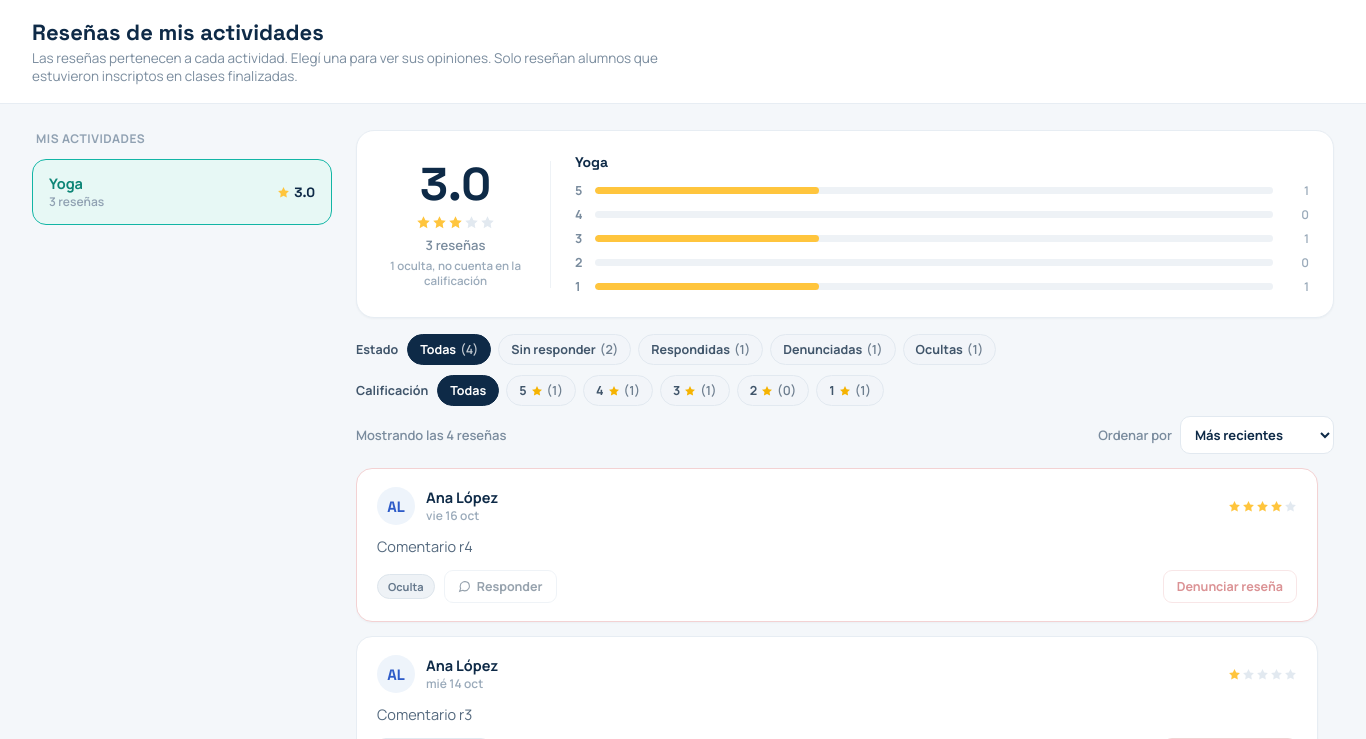
filtros de la lista (2026-10-25) › filtra por estado y por calificación, con la cantidad de cada opción
The width and height of the screenshot is (1366, 739).
Expected: the text "Mostrando las 4 reseñas" is shown, [356,426,506,444]
// "Sin responder" incluye la denunciada: todavía no tiene respuesta. Las ocultas no.
Click the button "Sin responder (2)": (565, 350) [498,334,631,365]
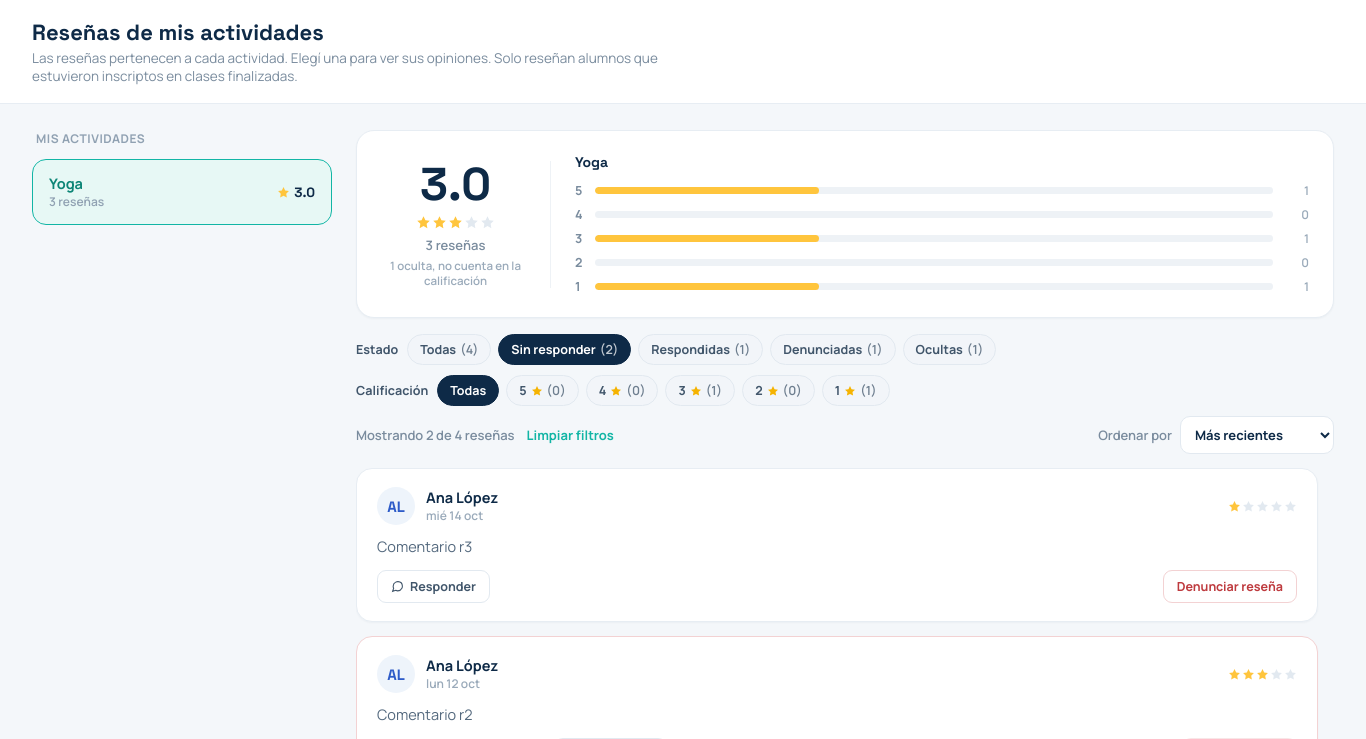
Expected: the text "Mostrando 2 de 4 reseñas" is shown, [356,426,515,444]
Click the button "Denunciadas (1)": (833, 350) [770,334,896,365]
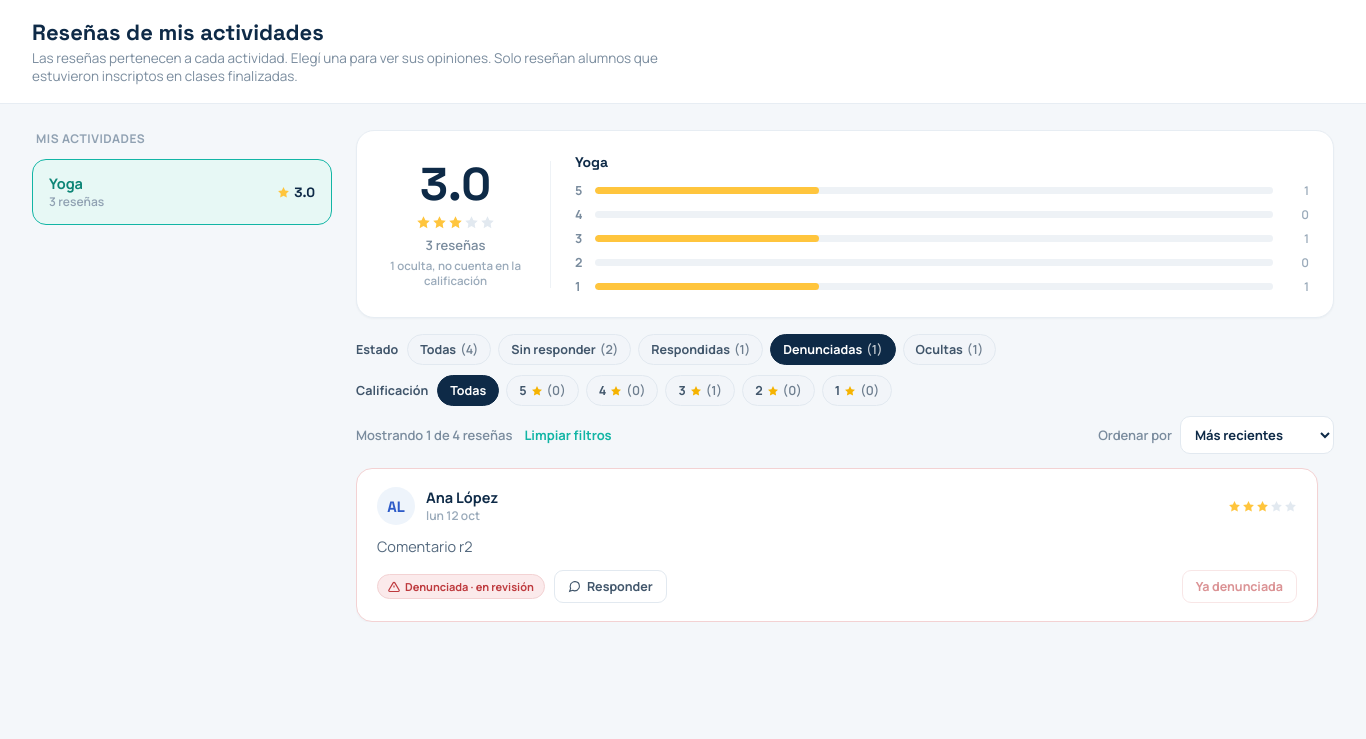
Click the button "Limpiar filtros": (568, 435) [524,426,612,444]
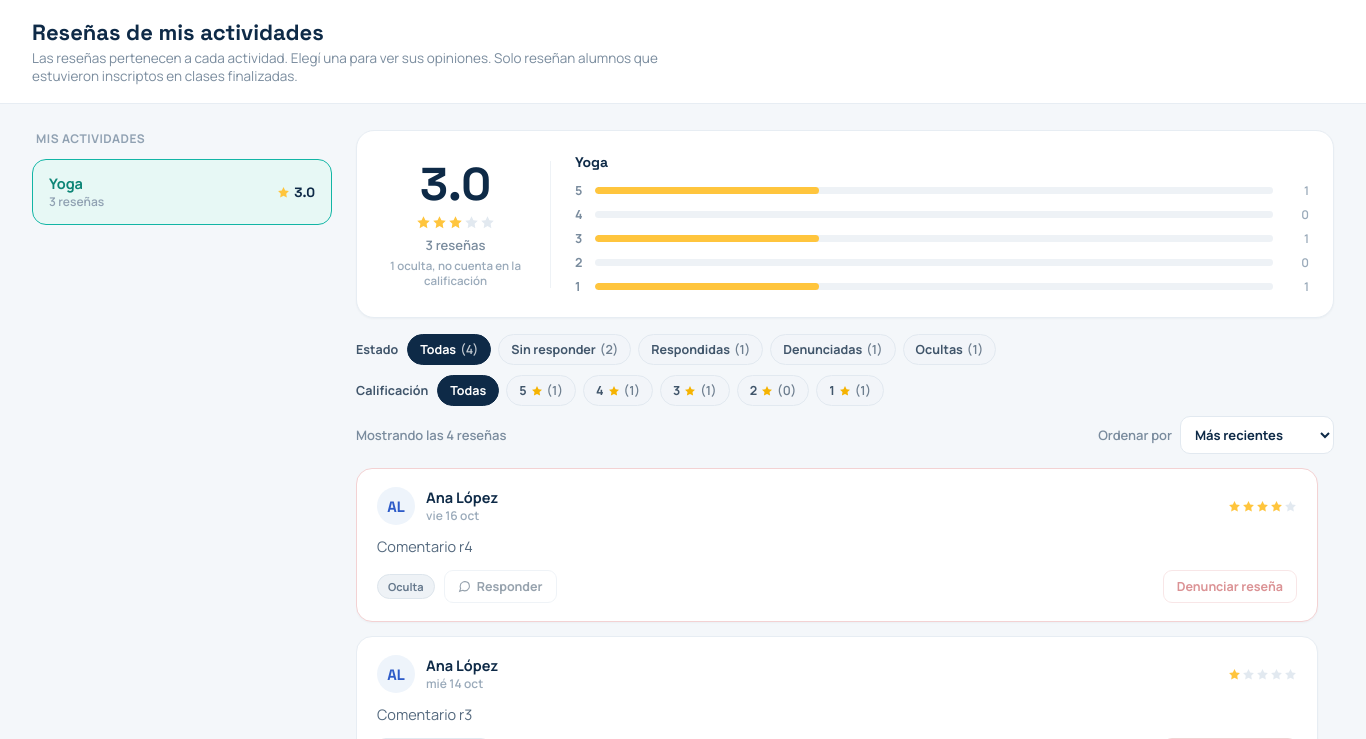
Click the button named "5 estrellas (1)": (541, 390) [506,375,576,406]
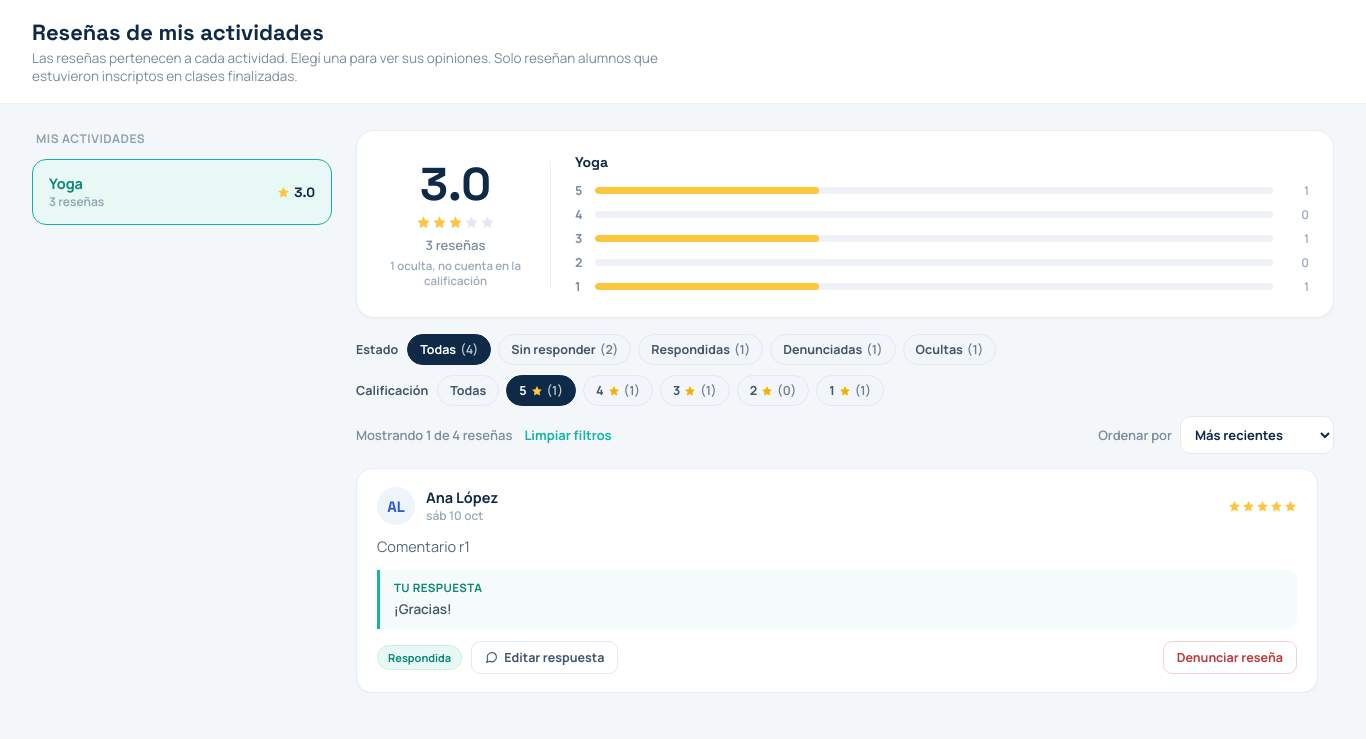
Click the button named "2 estrellas (0)": (773, 390) [737,375,809,406]
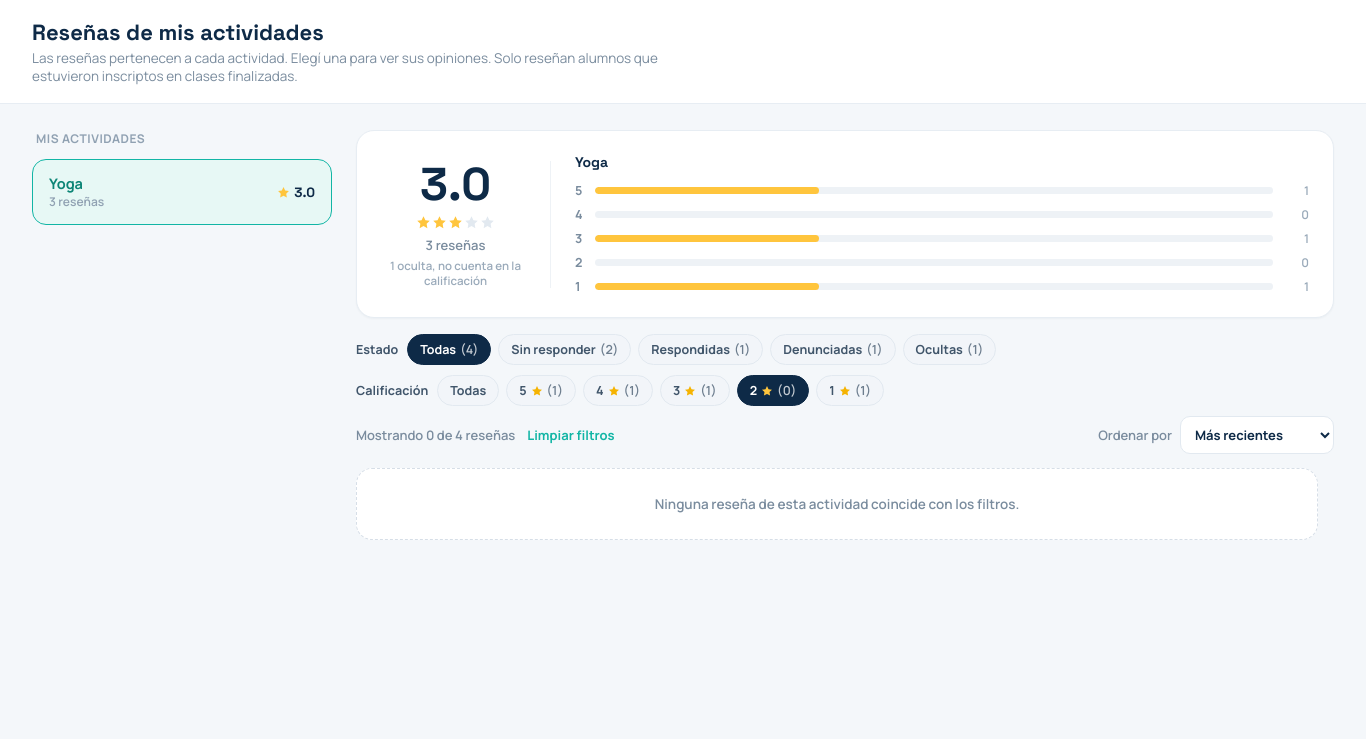
Expected: the text "Ninguna reseña de esta actividad coincide con los filtros." is shown, [356,468,1318,540]
